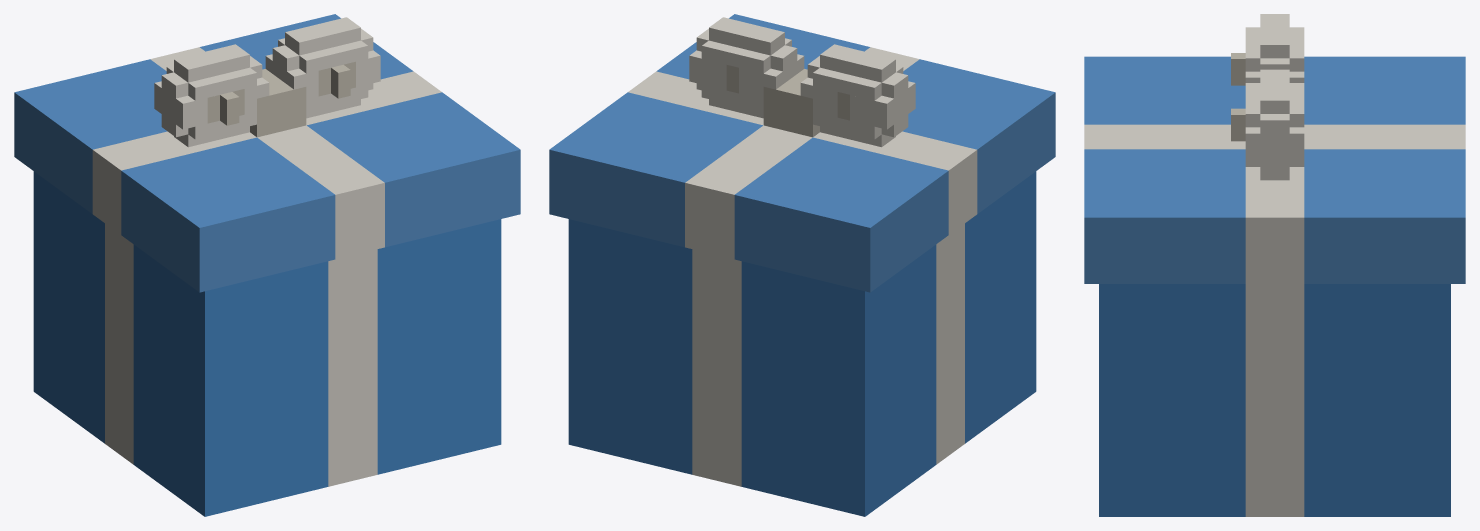
File: gift-blue.glb
3 renders of one model, left to right at view 1: azimuth 30°, elevation 25°; view 2: azimuth 150°, elevation 25°; view 3: azimuth 270°, elevation 25°, orthographic. The views are drawn at different scales.
Parts seen in each view (by area): view 1: prop; view 2: prop; view 3: prop.
Part boxes in pixels (x1,y1,x2,y2): prop: (14, 14, 520, 516); prop: (549, 14, 1055, 516); prop: (1084, 14, 1465, 516).
Size of the model in its own units: 14.34 by 16 by 14.34.
